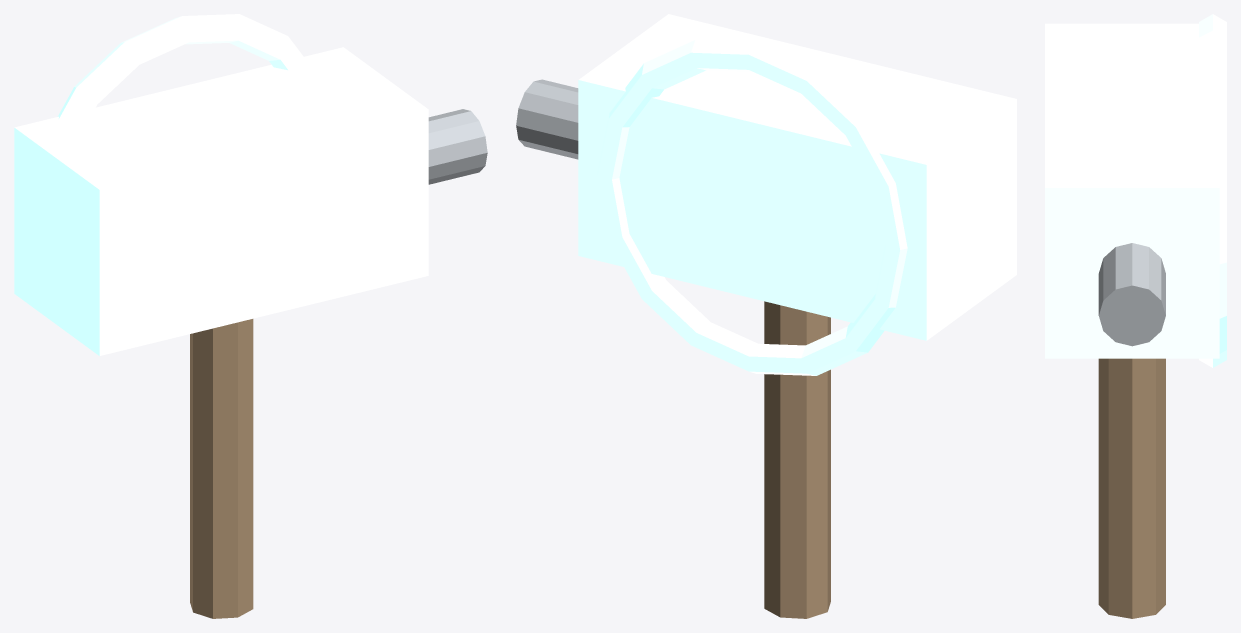
The model's file is mazo_5.glb.
3 views of the same model, side by side, from view 1: azimuth 30°, elevation 25°; view 2: azimuth 150°, elevation 25°; view 3: azimuth 270°, elevation 25° (orthographic). The views are drawn at different scales.
Parts seen in each view (by area): view 1: cabeza, mango, energia, piston; view 2: cabeza, energia, mango, piston; view 3: cabeza, mango, piston, energia.
Part boxes in pixels (x1,y1,x2,y2): cabeza: (14,47,428,355); mango: (190,319,253,618); energia: (57,14,305,122); piston: (428,109,487,184); cabeza: (578,14,1016,340); energia: (597,40,907,375); mango: (764,301,830,618); piston: (516,79,578,159); cabeza: (1045,23,1219,358); mango: (1098,358,1165,618); piston: (1098,243,1165,346); energia: (1199,14,1226,367).
Bounding box in the file's own units: 0.696 × 0.9 × 0.2582.
